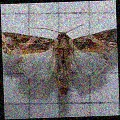Spodoptera litura: (2, 25, 118, 98)
